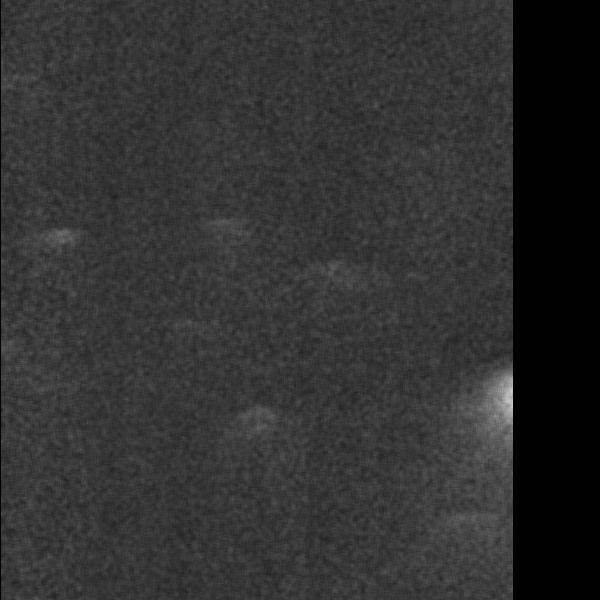spark: (449, 199, 481, 301), (89, 307, 120, 345)
